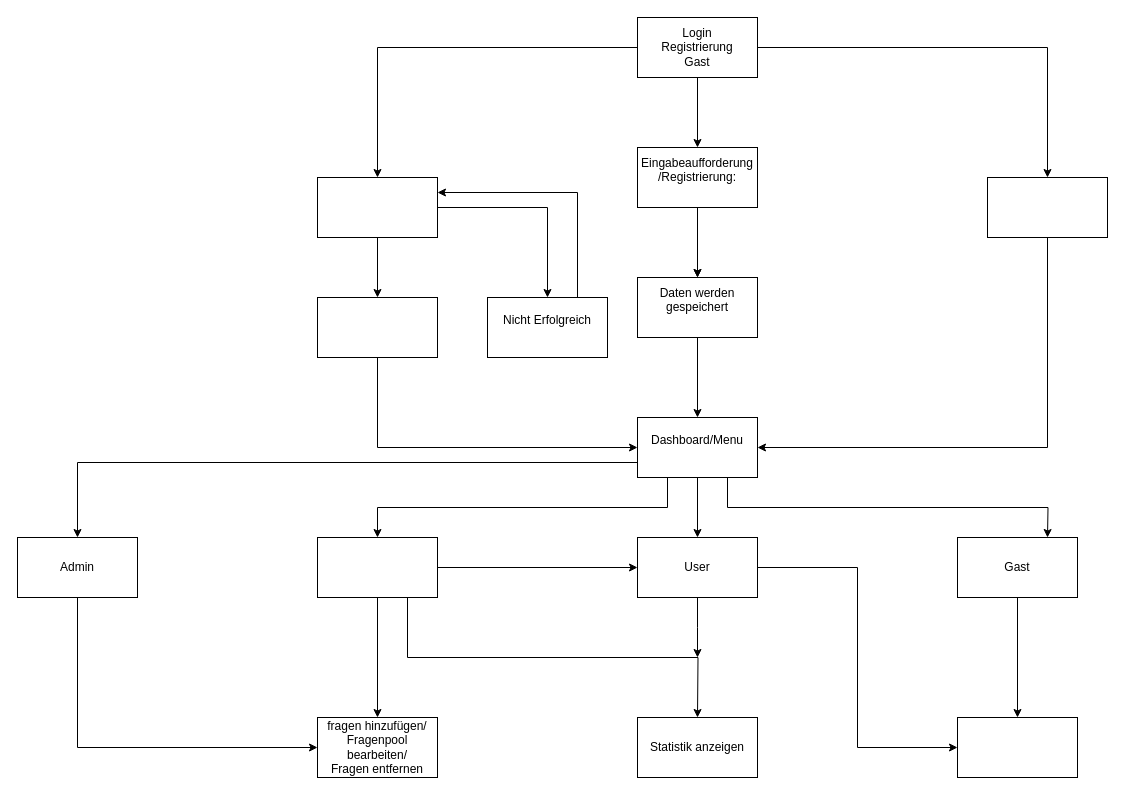
Image size: 1125x795. Some labels were removed from this diagram. The box of each missing label's shape, as (x1, y1, x2, y2) in pixels:
Dozent: (316, 536, 438, 598)
Erfolgreich: (316, 296, 438, 358)
Gast: Gast Daten werden Temporär generiert: (986, 176, 1108, 238)
Login: Anmeldeabfrage: (316, 176, 438, 238)
Quiz beitreten Quiz Hosten: (956, 716, 1078, 778)
